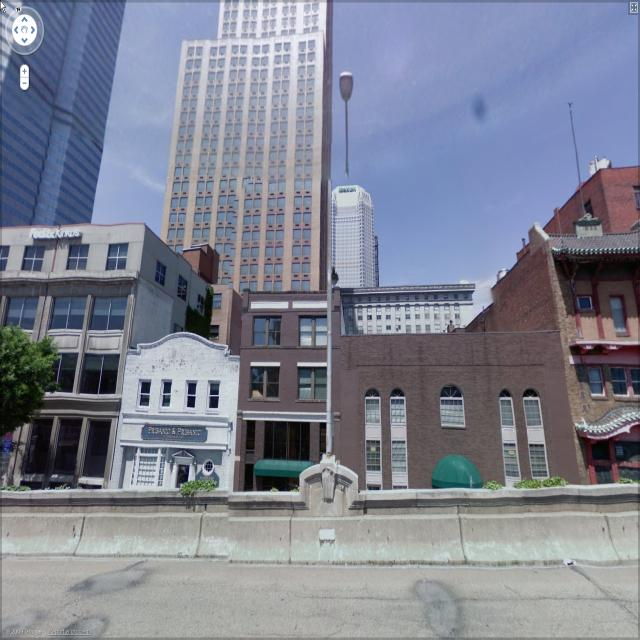b_1: (168, 4, 332, 297), (0, 210, 134, 526), (340, 320, 576, 492), (546, 229, 640, 493), (238, 282, 344, 504), (0, 1, 100, 221), (123, 329, 240, 502), (316, 175, 392, 306)
b_2: (0, 233, 126, 495)
